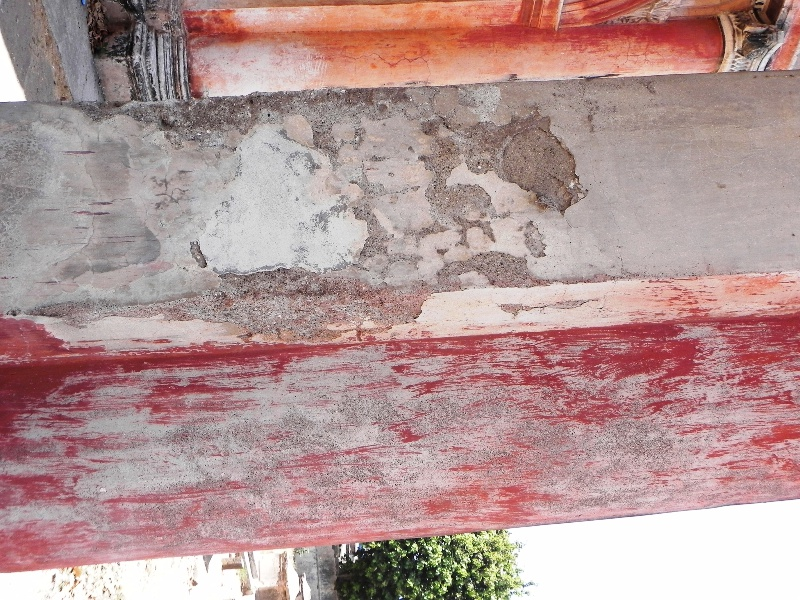Spalling: (56, 89, 418, 143), (481, 113, 597, 217)
